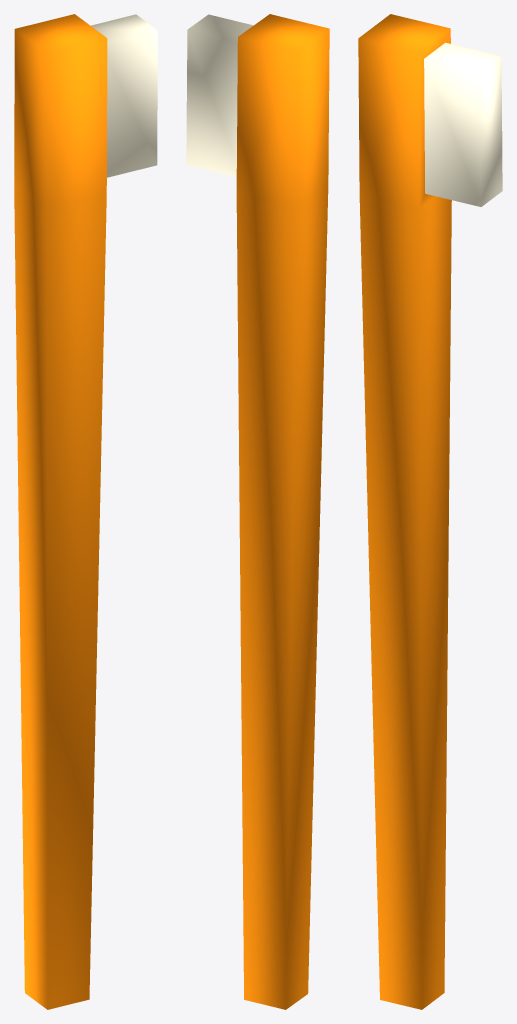
The model's file is ToothBrush.002.glb.
3 views of the same model, side by side, from view 1: azimuth 30°, elevation 25°; view 2: azimuth 150°, elevation 25°; view 3: azimuth 330°, elevation 25° (orthographic).
Visible parts, largest first — view 1: ToothBrush.002; view 2: ToothBrush.002; view 3: ToothBrush.002.
Boxes of the visible parts, x1,y1,x2,y2 form: ToothBrush.002: (14, 14, 157, 1009); ToothBrush.002: (186, 14, 329, 1009); ToothBrush.002: (358, 14, 502, 1009).
Bounding box in the file's own units: 0.0328 × 0.2598 × 0.0163.
1 material, 1 textured.
